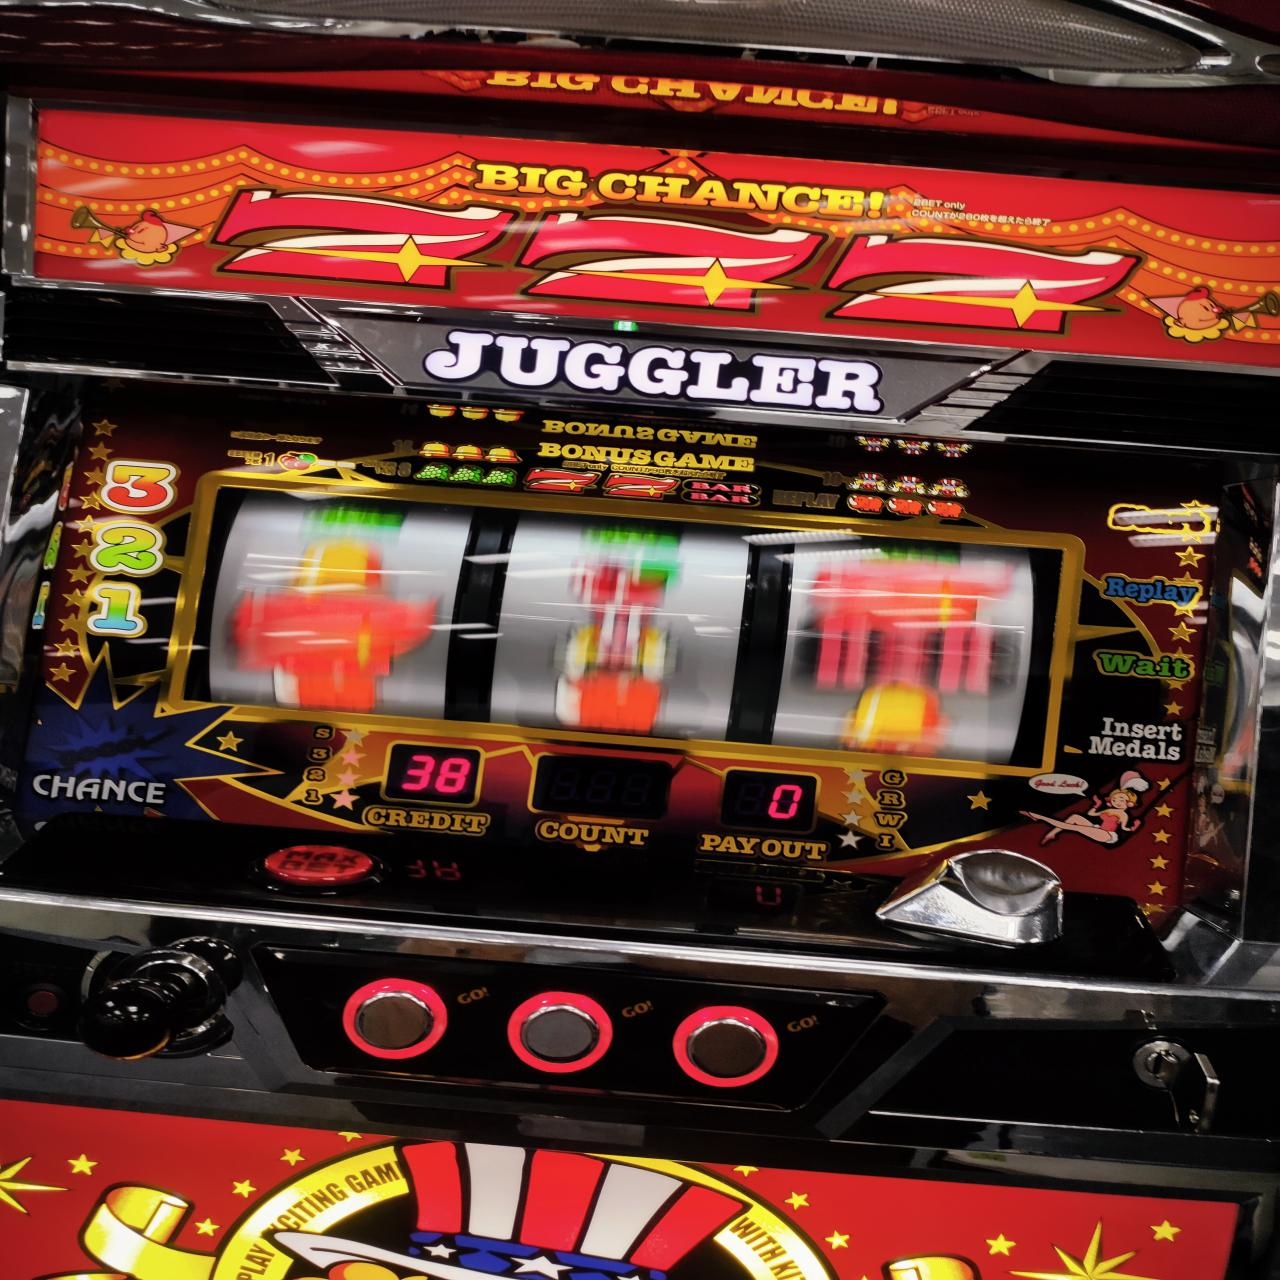rhino: (200, 482, 1048, 774)
